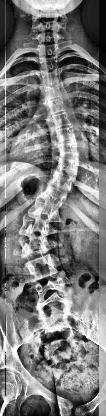Vertebrae: (32, 281, 74, 297), (22, 259, 62, 275), (47, 158, 87, 174), (36, 300, 76, 316), (20, 219, 56, 235), (18, 238, 52, 254), (34, 191, 74, 203), (42, 176, 82, 188), (51, 141, 84, 155), (27, 206, 65, 218), (50, 128, 82, 140), (38, 70, 64, 84), (49, 114, 75, 126), (45, 99, 69, 111), (40, 86, 66, 96), (38, 58, 60, 68)
